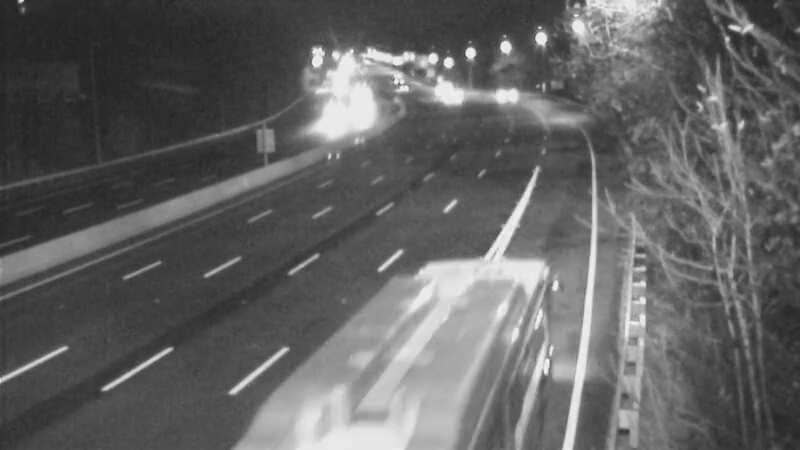vehicle: (357, 311, 467, 421), (371, 50, 421, 100), (419, 56, 469, 106), (413, 65, 463, 115), (479, 69, 529, 119), (424, 72, 474, 122), (310, 92, 360, 142), (335, 74, 385, 124)
